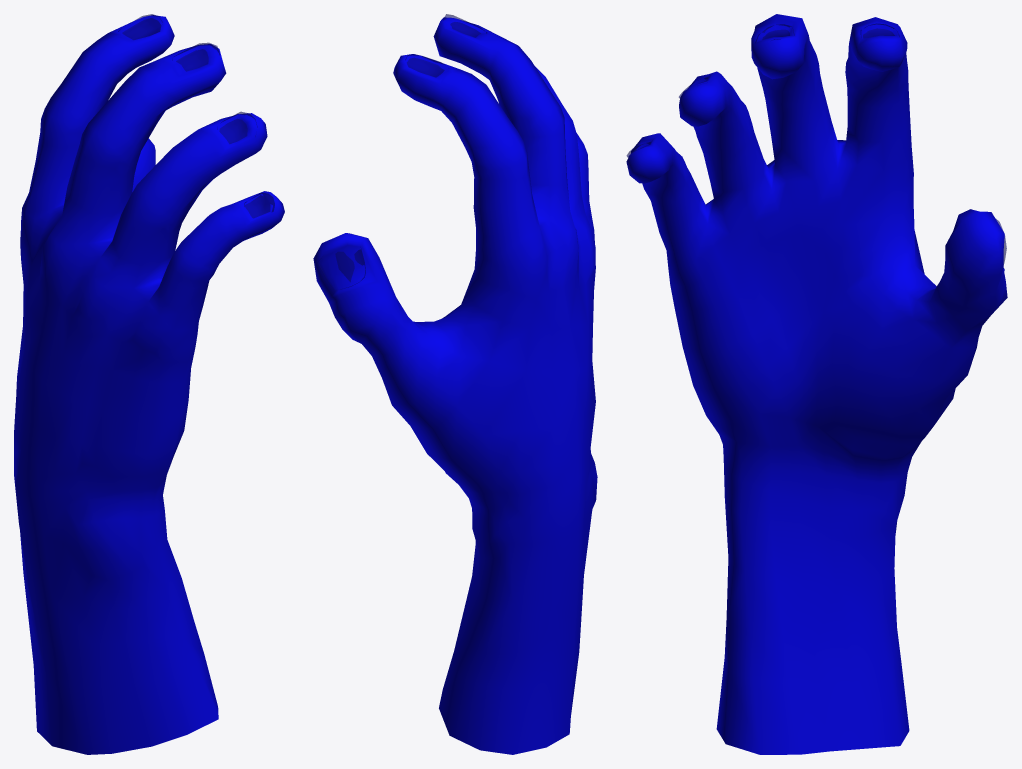
Rendered from closed hand.fbx.
3 views of the same model, side by side, from view 1: azimuth 30°, elevation 25°; view 2: azimuth 150°, elevation 25°; view 3: azimuth 270°, elevation 25° (orthographic). The views are drawn at different scales.
Visible parts, largest first — view 1: closed_hand; view 2: closed_hand; view 3: closed_hand.
Boxes of the visible parts, x1,y1,x2,y2 form: closed_hand: (14, 14, 284, 754); closed_hand: (313, 14, 597, 754); closed_hand: (626, 14, 1007, 754).
Size of the model in its own units: 104 by 334 by 154.
